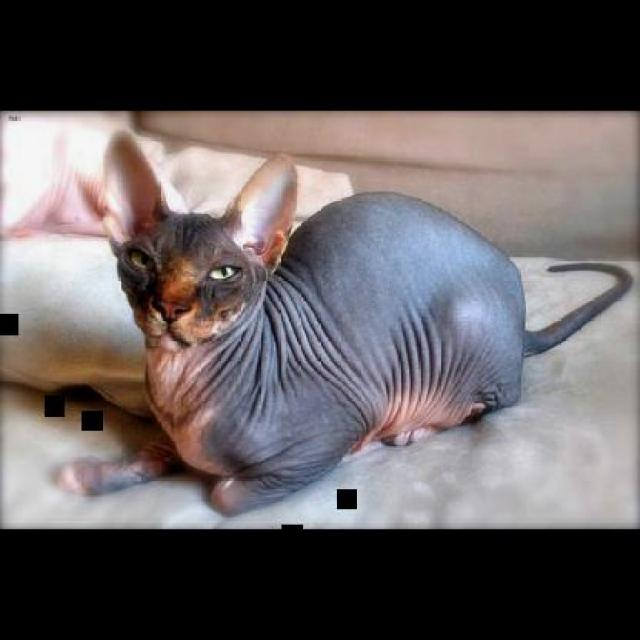unauthorized: (55, 129, 632, 517)
